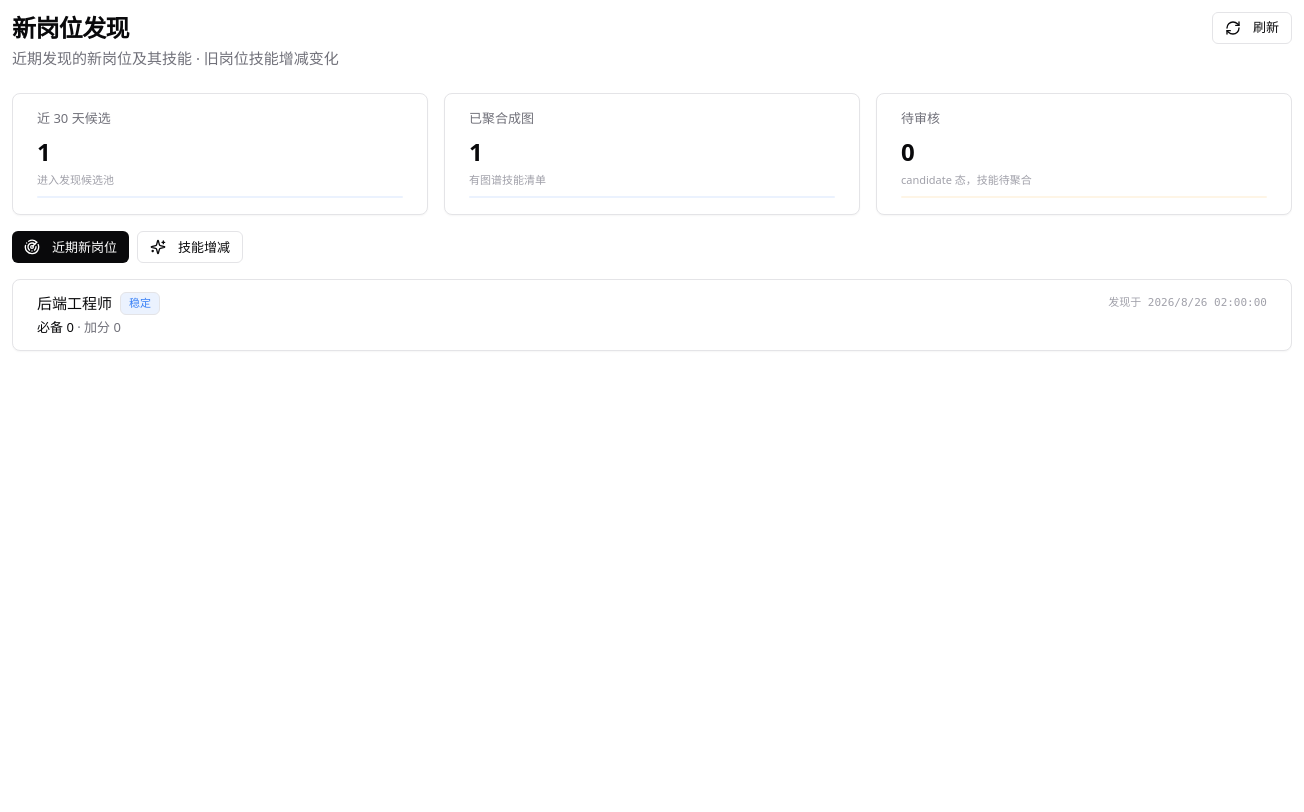
Test: DiscoveryPage › 全新岗位：目标快照首次出现的解读提示 + 移除/未变空态
Expected: the text "后端工程师" is shown, [37,293,112,314]
Click the button "技能增减". click: x=190, y=247
box: [137,231,243,263]
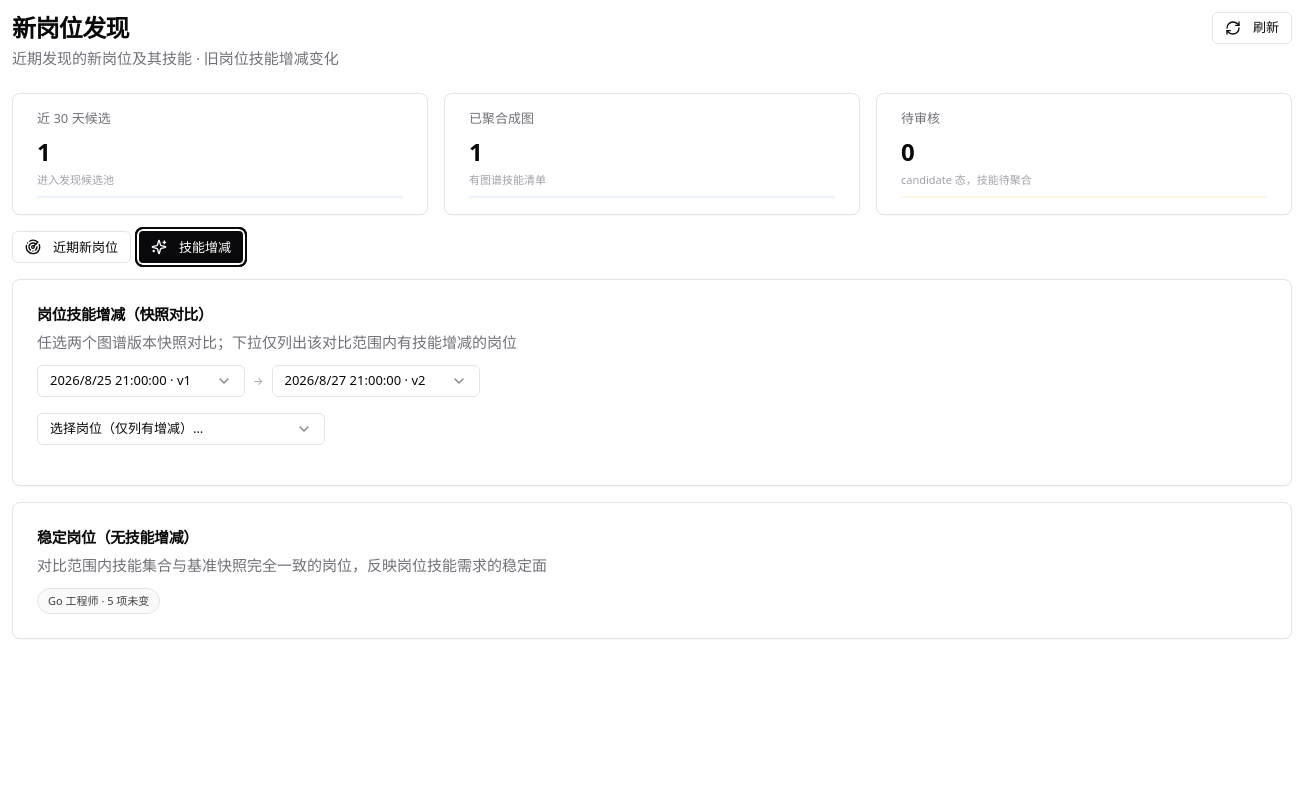
Expected: the text "选择岗位（仅列有增减）…" is shown, [50,420,203,438]
Click the dropdown labelled "岗位". click: x=181, y=429
box: [37,413,325,445]
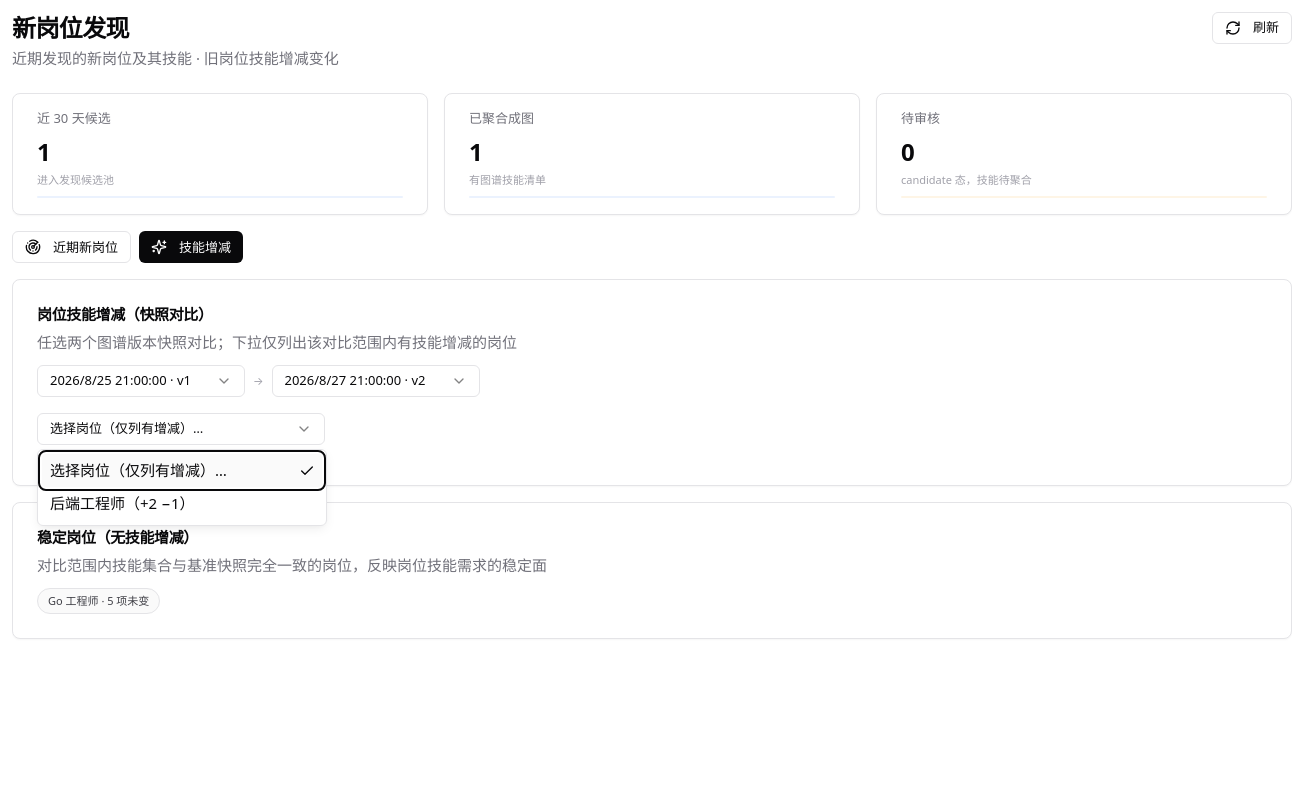
Click the option "后端工程师（+2 −1）". click: x=122, y=503
box: [50,493,195,513]
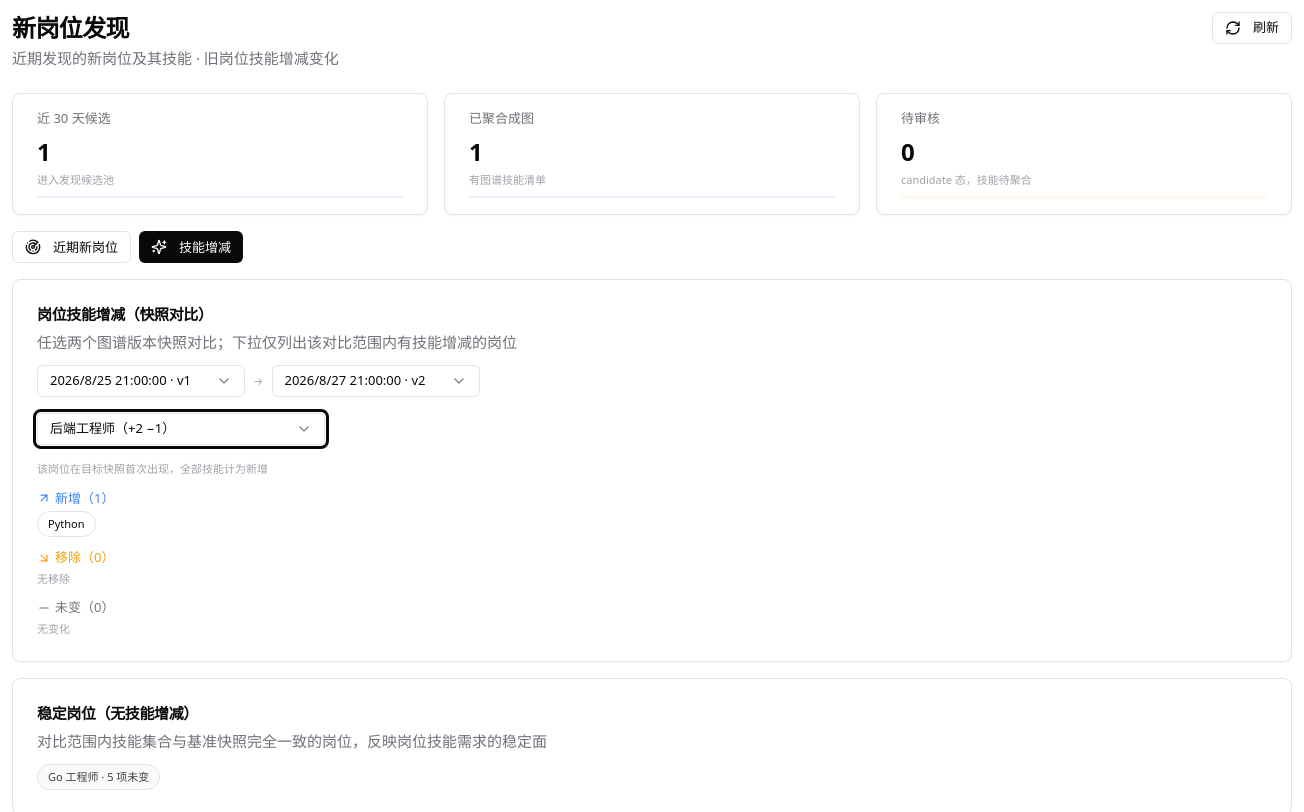
Expected: the text "该岗位在目标快照首次出现，全部技能计为新增" is shown, [37,461,268,476]
Expected: the text "无移除" is shown, [37,571,70,587]
Expected: the text "无变化" is shown, [37,621,70,637]
